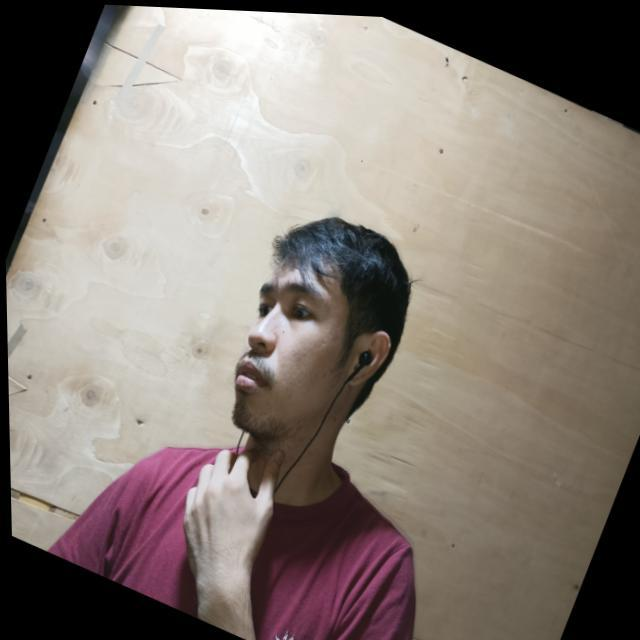Nonhelmet: (226, 213, 414, 442)
